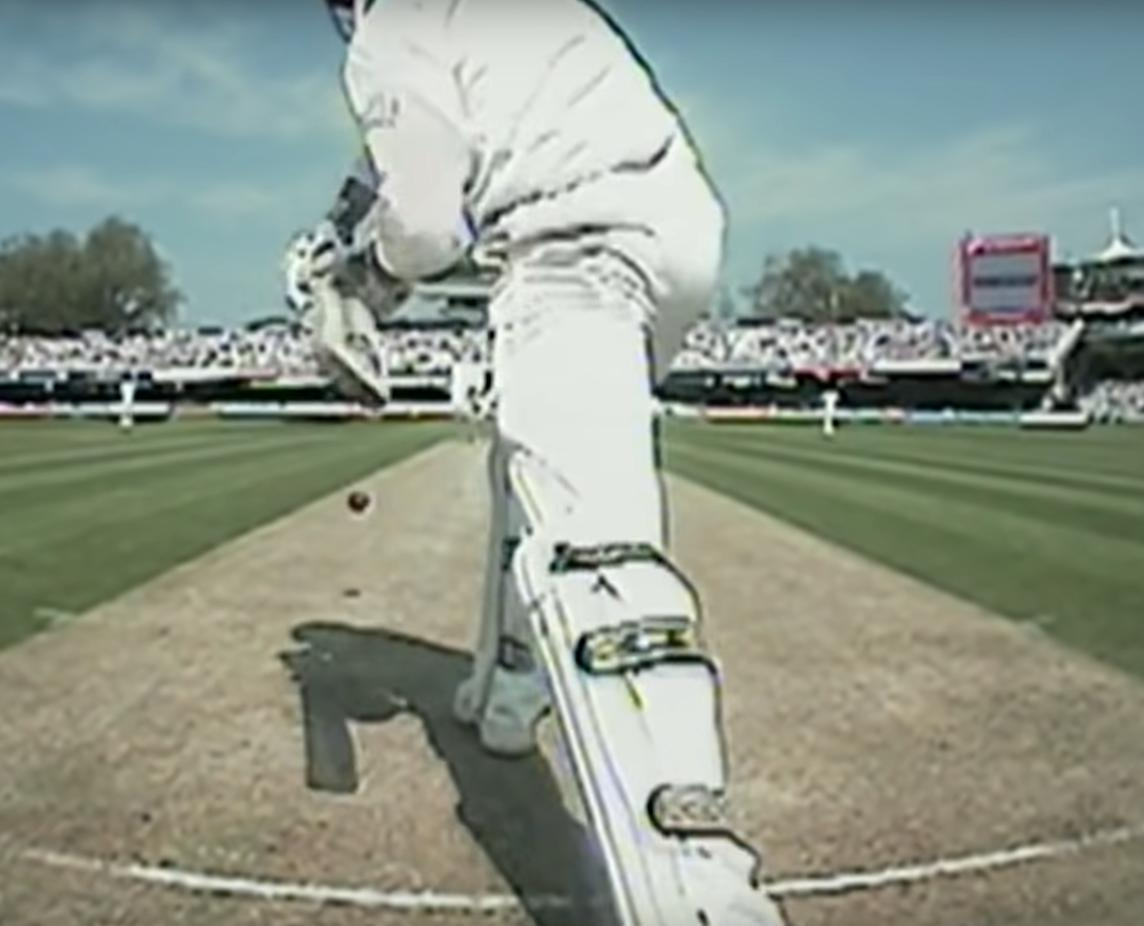Cricket-Ball: (331, 479, 385, 526)
